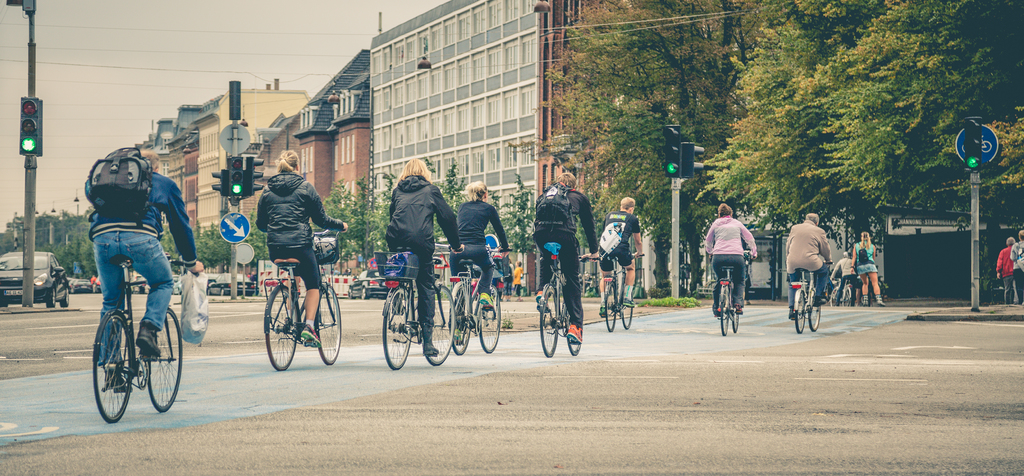Bike: (91, 253, 202, 422), (261, 222, 347, 370), (380, 234, 458, 370), (531, 232, 599, 360), (705, 247, 759, 338), (784, 254, 833, 338), (598, 248, 644, 335)
